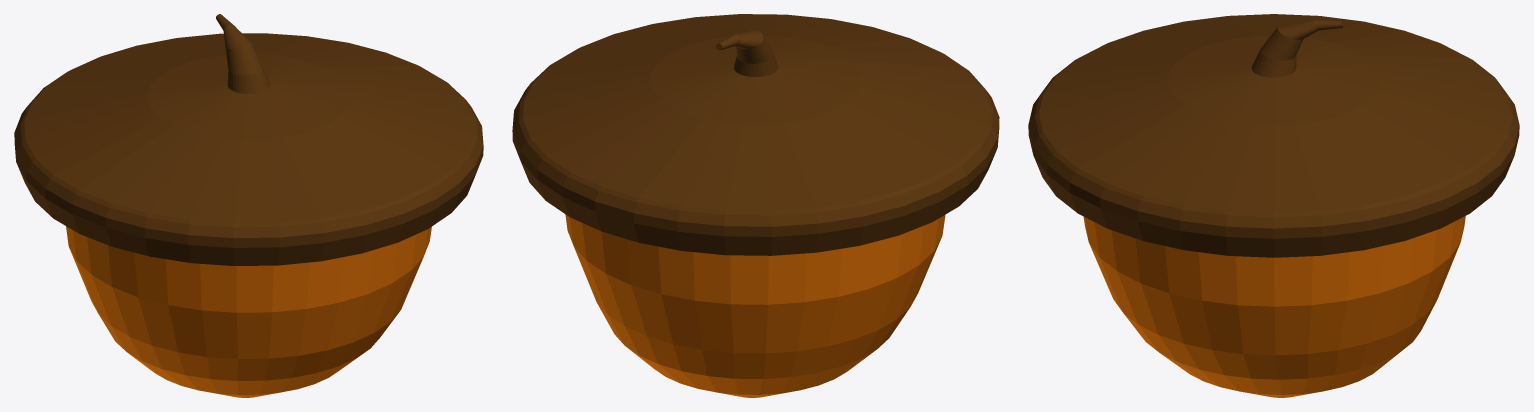
The model's file is Acorn.fbx.
The picture shows the model from 3 angles, left to right: view 1: azimuth 30°, elevation 25°; view 2: azimuth 150°, elevation 25°; view 3: azimuth 270°, elevation 25°; orthographic projection. The views are drawn at different scales.
Visible parts, largest first — view 1: Acorn; view 2: Acorn; view 3: Acorn.
Part boxes in pixels (left/top/right/bottom): Acorn: left=14, top=14, right=483, bottom=397; Acorn: left=512, top=14, right=999, bottom=397; Acorn: left=1028, top=14, right=1519, bottom=397.
Bounding box in the file's own units: 335 × 280 × 335.
